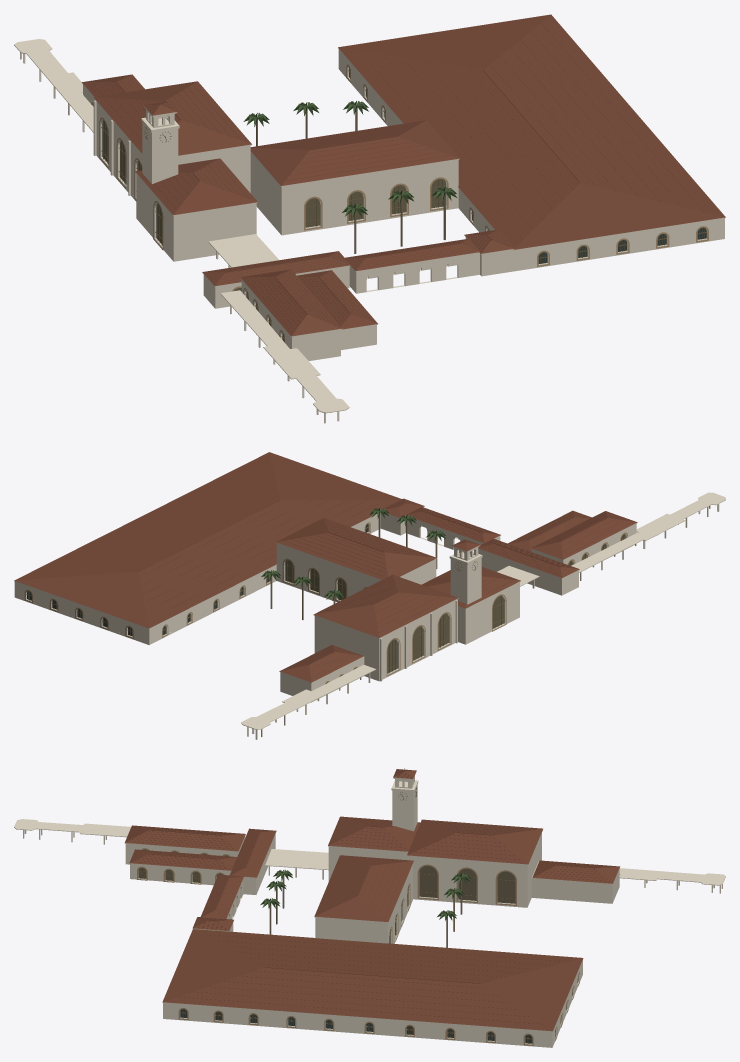
Rendered from los-angeles-union-station-near.glb.
3 renders of one model, top to bottom at view 1: azimuth 30°, elevation 25°; view 2: azimuth 150°, elevation 25°; view 3: azimuth 270°, elevation 25°, orthographic. The views are drawn at different scales.
Visible parts, largest first — view 1: los-angeles-union-station-0-roof, los-angeles-union-station-0-stucco, los-angeles-union-station-0-glow, los-angeles-union-station-0-trim, los-angeles-union-station-0-bronze, los-angeles-union-station-0-foliage; view 2: los-angeles-union-station-0-roof, los-angeles-union-station-0-stucco, los-angeles-union-station-0-glow, los-angeles-union-station-0-trim, los-angeles-union-station-0-bronze, los-angeles-union-station-0-foliage; view 3: los-angeles-union-station-0-roof, los-angeles-union-station-0-stucco, los-angeles-union-station-0-glow, los-angeles-union-station-0-trim, los-angeles-union-station-0-bronze, los-angeles-union-station-0-foliage, los-angeles-union-station-0-glass, los-angeles-union-station-0-trunk.
Part boxes in pixels (box(x1,y1,x2,y2)): los-angeles-union-station-0-roof: box(82, 14, 725, 336); los-angeles-union-station-0-stucco: box(14, 39, 725, 423); los-angeles-union-station-0-glow: box(102, 120, 445, 341); los-angeles-union-station-0-trim: box(91, 64, 708, 342); los-angeles-union-station-0-bronze: box(93, 68, 706, 341); los-angeles-union-station-0-foliage: box(243, 101, 456, 218); los-angeles-union-station-0-roof: box(14, 452, 637, 682); los-angeles-union-station-0-stucco: box(14, 492, 725, 739); los-angeles-union-station-0-glow: box(285, 534, 625, 683); los-angeles-union-station-0-trim: box(24, 522, 627, 684); los-angeles-union-station-0-bronze: box(26, 524, 626, 683); los-angeles-union-station-0-foliage: box(261, 507, 445, 600); los-angeles-union-station-0-roof: box(125, 769, 619, 1031); los-angeles-union-station-0-stucco: box(14, 772, 725, 1047); los-angeles-union-station-0-glow: box(138, 849, 515, 943); los-angeles-union-station-0-trim: box(137, 848, 579, 1045); los-angeles-union-station-0-bronze: box(138, 768, 578, 1043); los-angeles-union-station-0-foliage: box(260, 870, 470, 920); los-angeles-union-station-0-glass: box(180, 1009, 532, 1043); los-angeles-union-station-0-trunk: box(269, 875, 462, 947).
Bounding box in the file's own units: 188 × 38.71 × 260.
